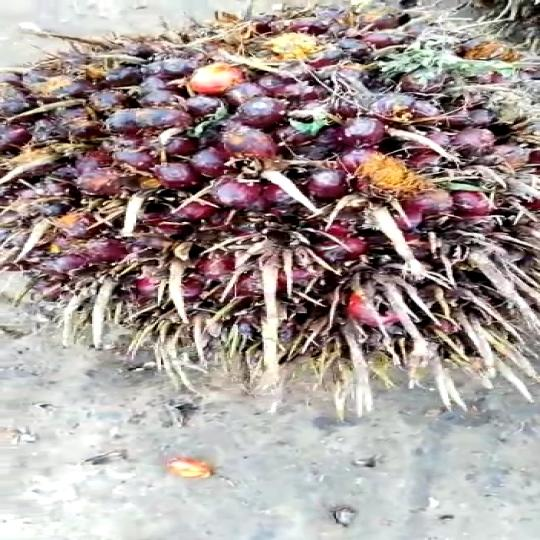masak: (0, 2, 540, 386)
